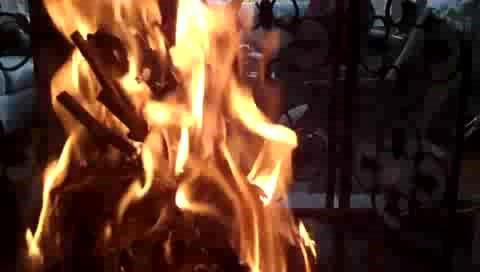fire: (26, 2, 295, 272)
